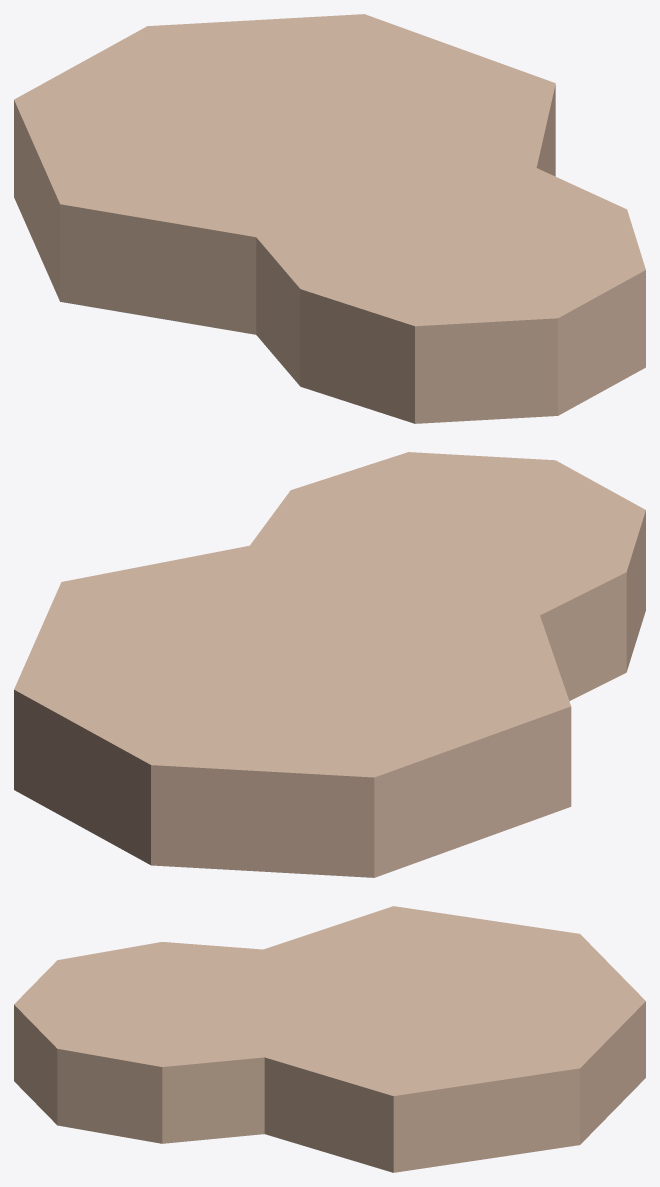
Rendered from SM_Shape_Cloud__02.fbx.
3 views of the same model, one above another, from view 1: azimuth 30°, elevation 25°; view 2: azimuth 150°, elevation 25°; view 3: azimuth 270°, elevation 25° (orthographic). The views are drawn at different scales.
Parts seen in each view (by area): view 1: SM_Shape_Cloud__02; view 2: SM_Shape_Cloud__02; view 3: SM_Shape_Cloud__02.
Boxes of the visible parts, bbox=[...] form: SM_Shape_Cloud__02: bbox=[14, 14, 645, 423]; SM_Shape_Cloud__02: bbox=[14, 452, 645, 877]; SM_Shape_Cloud__02: bbox=[14, 906, 645, 1172].
Size of the model in its own units: 7.13 by 1.34 by 10.02.
